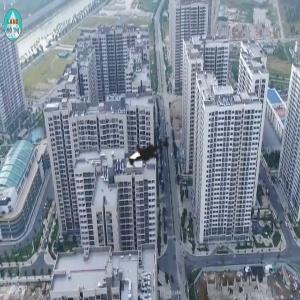drone: (111, 111, 187, 187)
